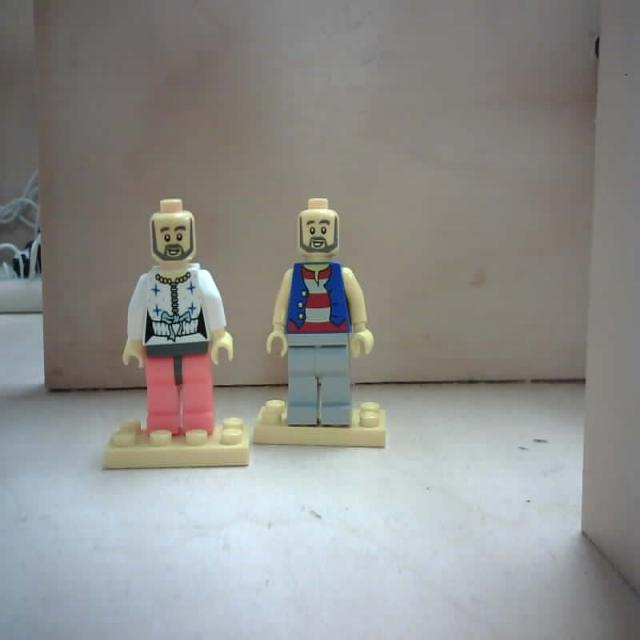Lego-People: (102, 196, 251, 470), (249, 196, 387, 452)
